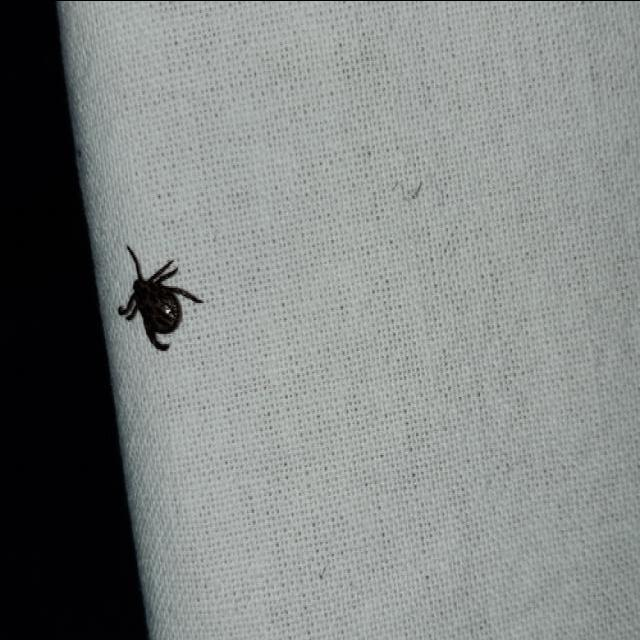Dermacentor Reticulatus-M: (116, 246, 200, 350)
